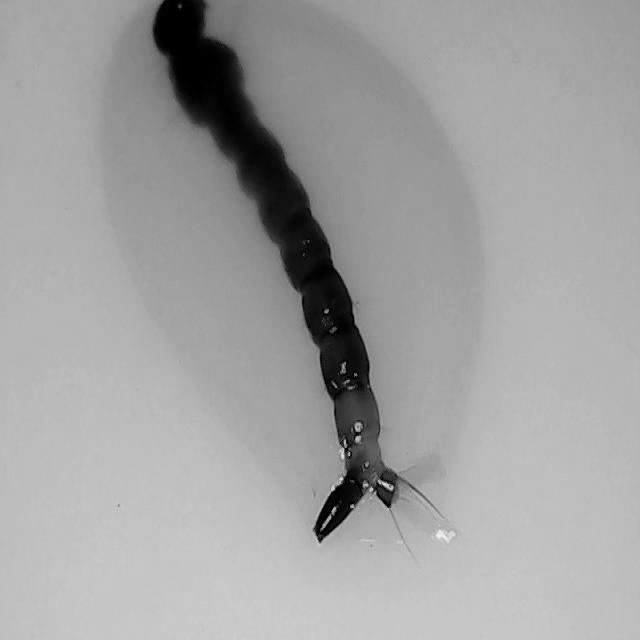larvas: (151, 0, 398, 543)
